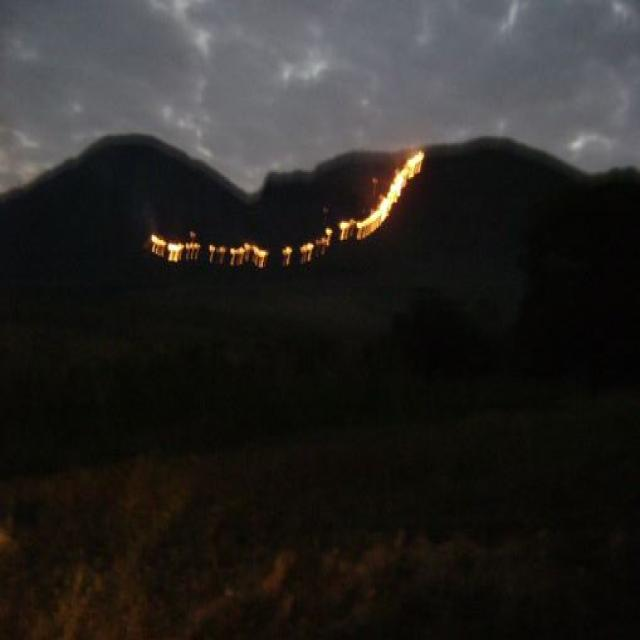Fire: (123, 140, 449, 262), (317, 220, 335, 244), (207, 230, 222, 258), (148, 226, 164, 252), (183, 237, 201, 257), (282, 237, 291, 255)
